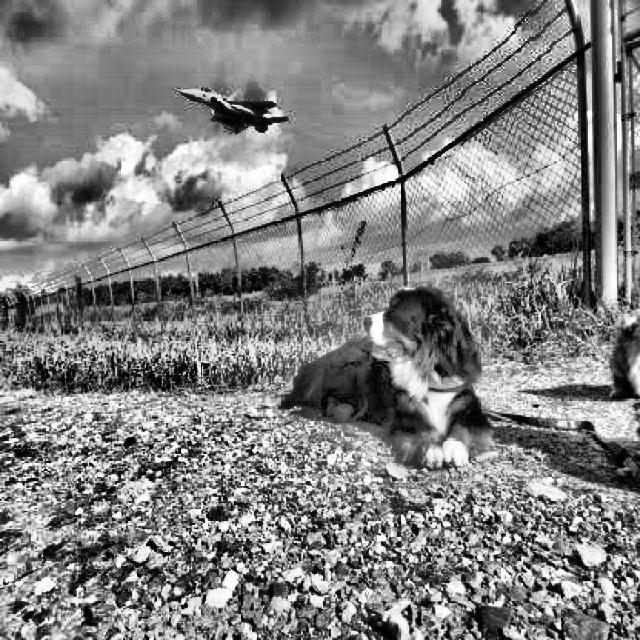F15: (178, 86, 290, 134)
